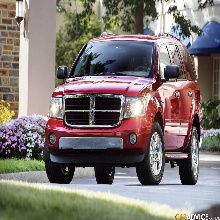no damage: (44, 33, 204, 186)
